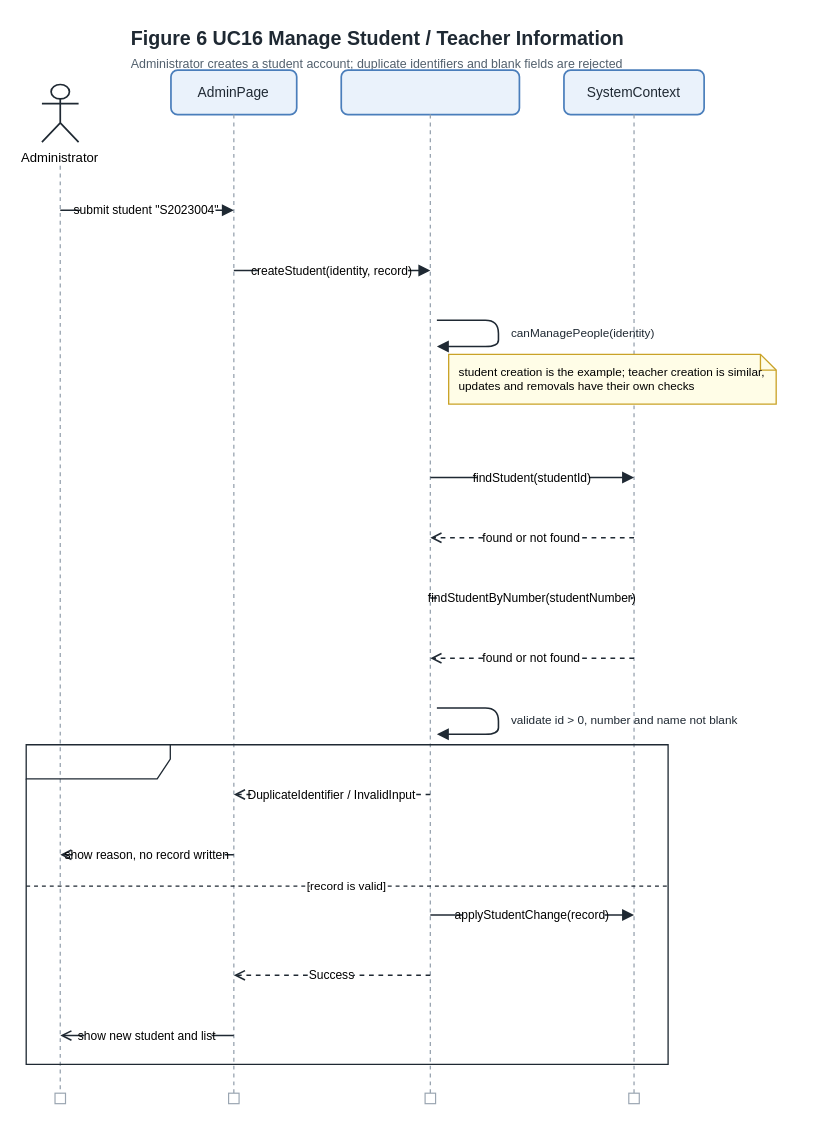
The diagram is 824 pixels wide and 1127 high, and some of its shapes have lost their labels. The shapes that lost their labels are listed below. From the top down, each one's box as (x1, y1, x2, y2) in pixels, then its label:
(340, 69, 520, 115): AdministratorService
(25, 743, 668, 1064): alt [duplicate id/number or blank field]
